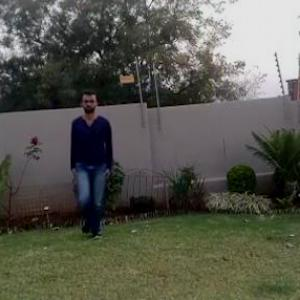follow: (70, 89, 121, 236)
